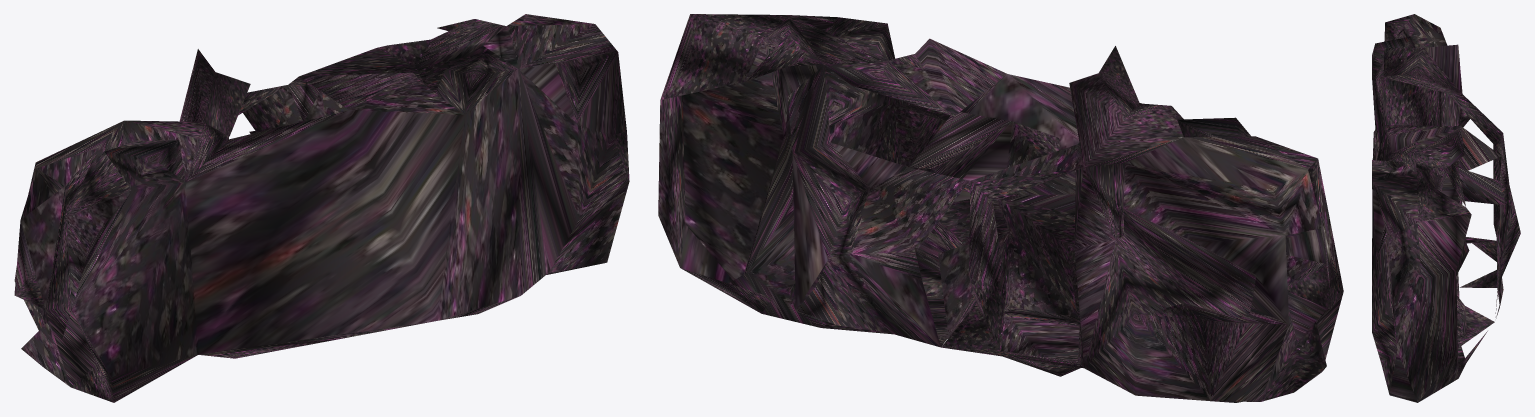
Rendered from car1.glb.
3 renders of one model, left to right at view 1: azimuth 30°, elevation 25°; view 2: azimuth 150°, elevation 25°; view 3: azimuth 270°, elevation 25°, orthographic. The views are drawn at different scales.
Visible parts, largest first — view 1: car1; view 2: car1; view 3: car1.
Boxes of the visible parts, box(x1,y1,x2,y2) form: car1: box(14, 14, 629, 402); car1: box(658, 14, 1343, 402); car1: box(1372, 14, 1520, 402).
Size of the model in its own units: 1.84 by 0.8394 by 0.5029.
1 material, 1 textured.
